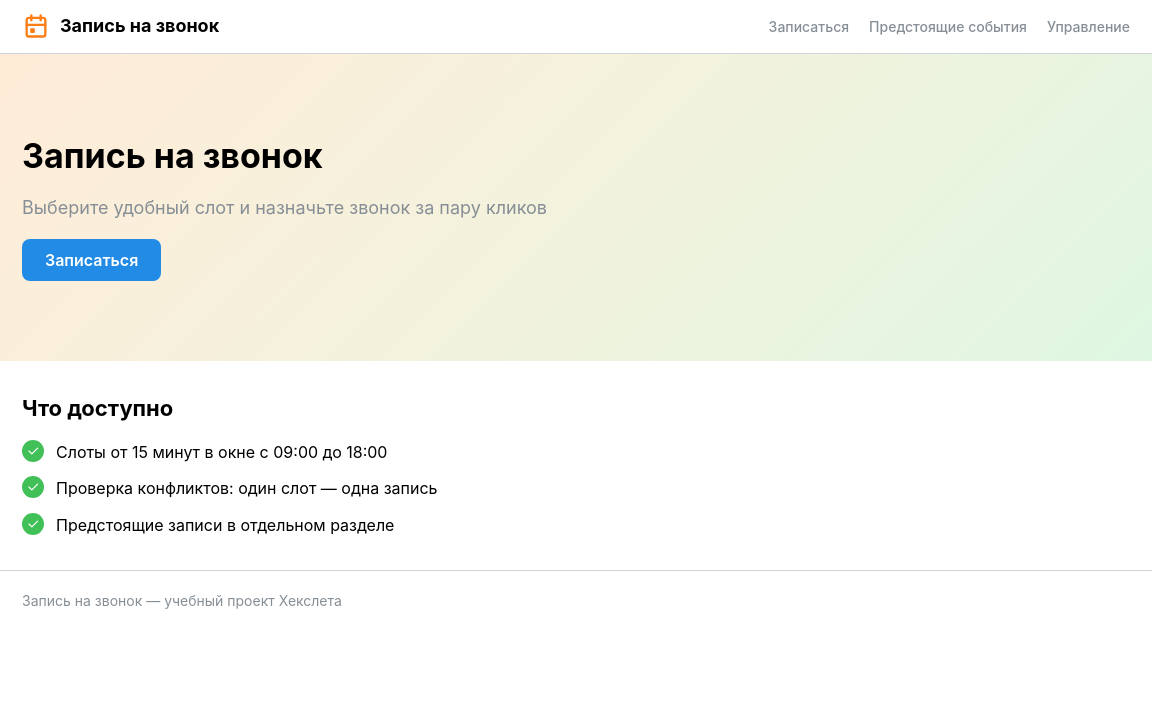
it: App › переводит в предстоящие события по ссылке навигации
Click the link "Предстоящие события" at (948, 26), box x1=869 y1=14 x2=1027 y2=39
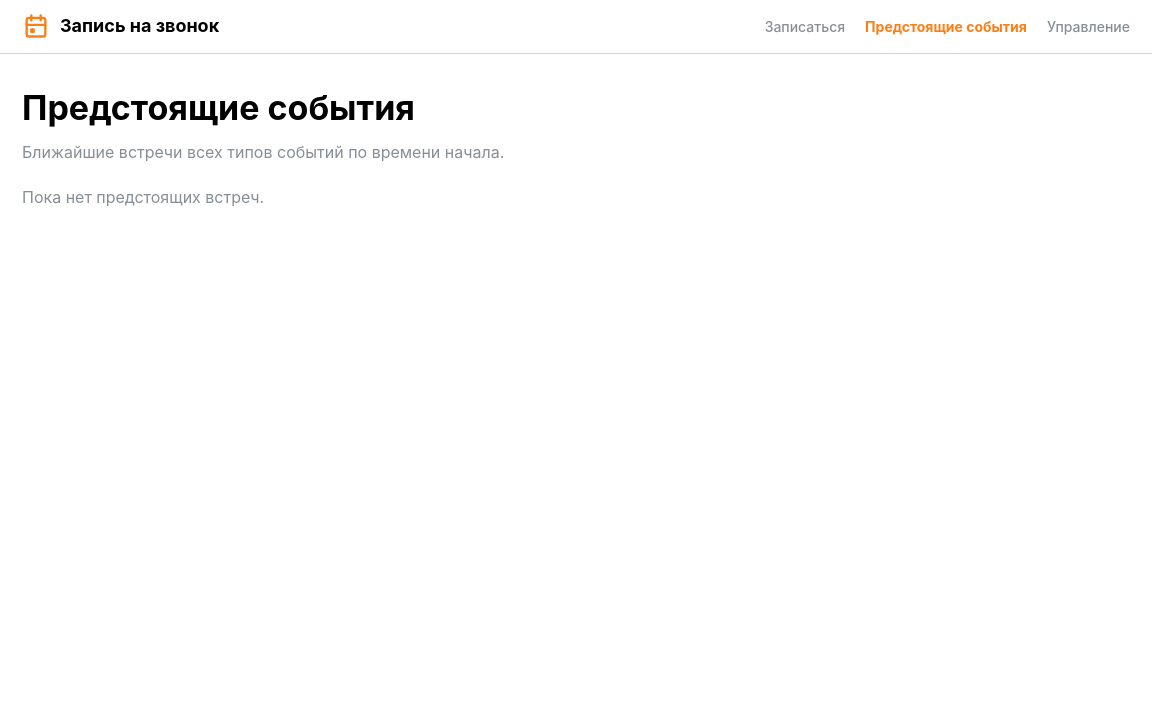
Result: the heading "Предстоящие события" is shown at x1=22 y1=87 x2=415 y2=128
